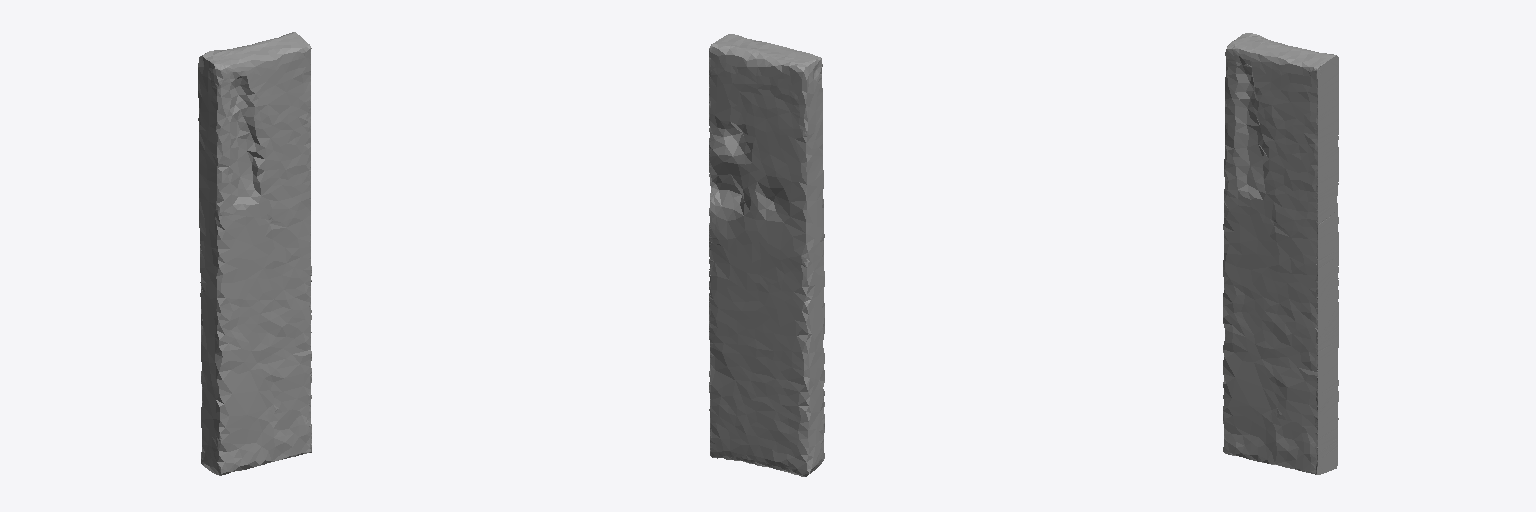
The model's file is paper_mate_12_count_mirado_black_warrior.obj.
3 renders of one model, left to right at view 1: azimuth 30°, elevation 25°; view 2: azimuth 150°, elevation 25°; view 3: azimuth 330°, elevation 25°, orthographic.
Size of the model in its own units: 0.0378 by 0.1538 by 0.0154.